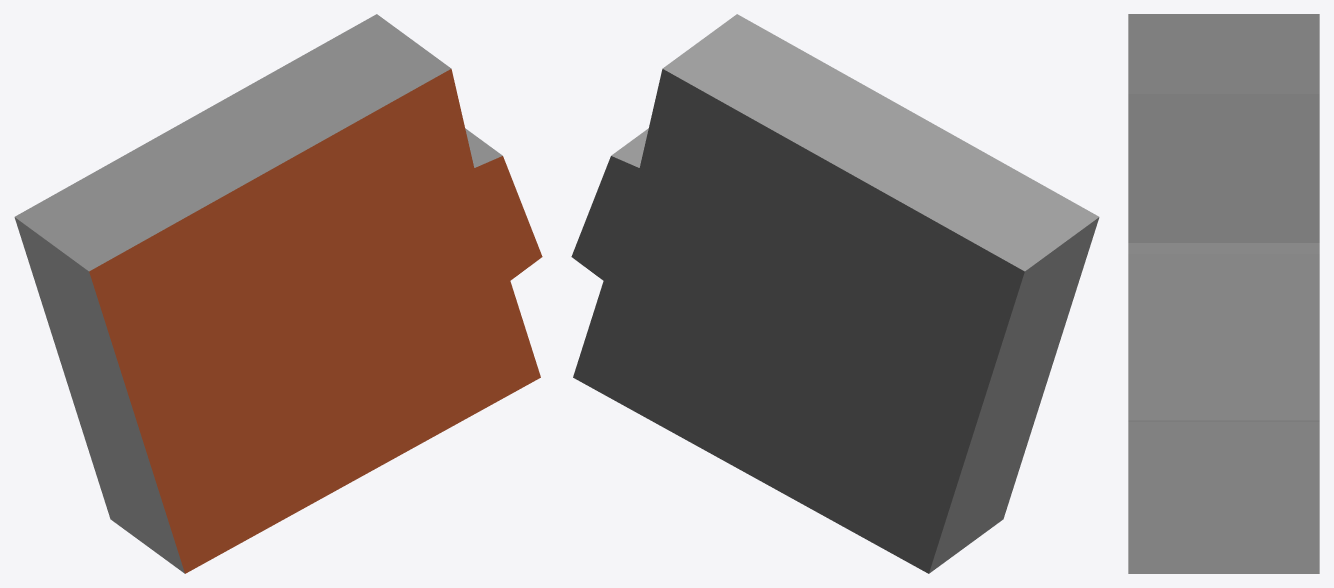
Rendered from construction_3594_assumed_A_Casa_h6m.obj.
3 renders of one model, left to right at view 1: azimuth 30°, elevation 25°; view 2: azimuth 150°, elevation 25°; view 3: azimuth 270°, elevation 25°, orthographic. The views are drawn at different scales.
Parts seen in each view (by area): view 1: construction_3594_assumed_A_Casa; view 2: construction_3594_assumed_A_Casa; view 3: construction_3594_assumed_A_Casa.
Part boxes in pixels (left/top/right/bottom): construction_3594_assumed_A_Casa: left=14, top=14, right=542, bottom=573; construction_3594_assumed_A_Casa: left=571, top=14, right=1099, bottom=573; construction_3594_assumed_A_Casa: left=1128, top=14, right=1319, bottom=573.
Bounding box in the file's own units: 21.04 × 19.52 × 6.
